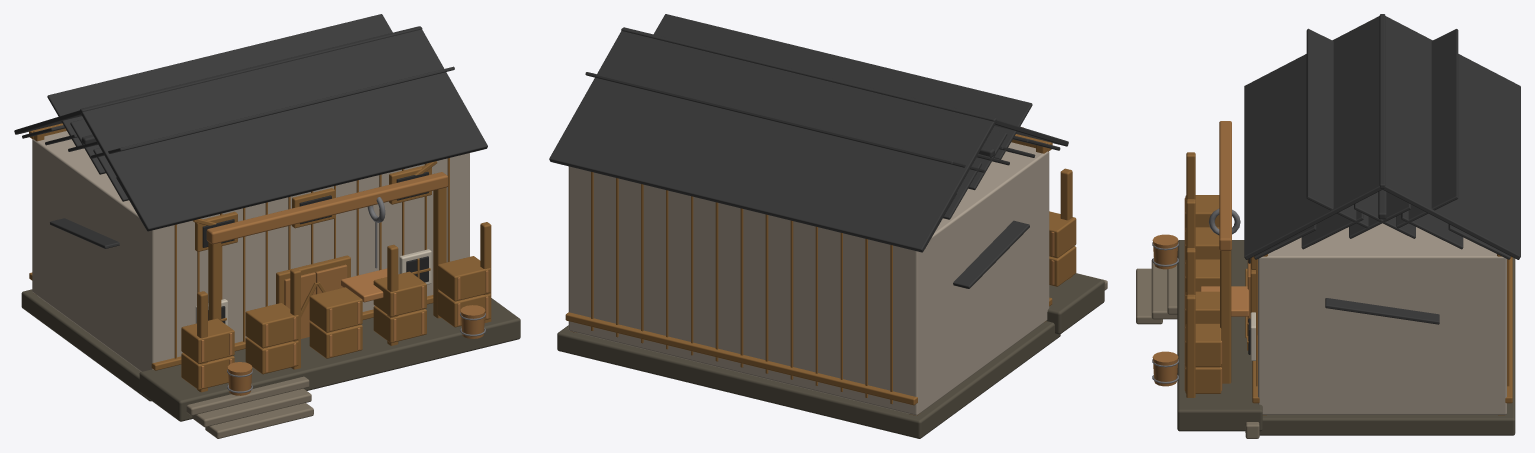
File: export-warehouse.glb
3 views of the same model, side by side, from view 1: azimuth 30°, elevation 25°; view 2: azimuth 150°, elevation 25°; view 3: azimuth 270°, elevation 25° (orthographic). The views are drawn at different scales.
Visible parts, largest first — view 1: export-warehouse-farm-roof-slate, export-warehouse-farm-plaster, export-warehouse-farm-wood-dark, export-warehouse-farm-stone-dark, export-warehouse-farm-wood, export-warehouse-farm-stone, export-warehouse-farm-wood-light, export-warehouse-farm-window, export-warehouse-farm-metal, export-warehouse-farm-trim; view 2: export-warehouse-farm-plaster, export-warehouse-farm-roof-slate, export-warehouse-farm-stone-dark, export-warehouse-farm-wood-dark; view 3: export-warehouse-farm-roof-slate, export-warehouse-farm-plaster, export-warehouse-farm-stone-dark, export-warehouse-farm-wood-dark, export-warehouse-farm-wood, export-warehouse-farm-stone, export-warehouse-farm-wood-light, export-warehouse-farm-metal.
Boxes of the visible parts, bbox=[...] form: export-warehouse-farm-roof-slate: bbox=[14, 14, 487, 248]; export-warehouse-farm-plaster: bbox=[32, 131, 469, 371]; export-warehouse-farm-wood-dark: bbox=[29, 123, 491, 392]; export-warehouse-farm-stone-dark: bbox=[21, 289, 520, 421]; export-warehouse-farm-wood: bbox=[206, 172, 485, 395]; export-warehouse-farm-stone: bbox=[186, 376, 313, 438]; export-warehouse-farm-wood-light: bbox=[201, 268, 488, 388]; export-warehouse-farm-window: bbox=[202, 171, 428, 323]; export-warehouse-farm-metal: bbox=[227, 197, 485, 393]; export-warehouse-farm-trim: bbox=[195, 249, 431, 325]; export-warehouse-farm-plaster: bbox=[568, 142, 1049, 415]; export-warehouse-farm-roof-slate: bbox=[549, 14, 1068, 288]; export-warehouse-farm-stone-dark: bbox=[557, 273, 1104, 438]; export-warehouse-farm-wood-dark: bbox=[565, 134, 1076, 415]; export-warehouse-farm-roof-slate: bbox=[1244, 14, 1520, 324]; export-warehouse-farm-plaster: bbox=[1258, 223, 1506, 414]; export-warehouse-farm-stone-dark: bbox=[1177, 240, 1515, 435]; export-warehouse-farm-wood-dark: bbox=[1185, 152, 1512, 415]; export-warehouse-farm-wood: bbox=[1152, 121, 1250, 386]; export-warehouse-farm-stone: bbox=[1136, 259, 1259, 438]; export-warehouse-farm-wood-light: bbox=[1184, 198, 1248, 390]; export-warehouse-farm-metal: bbox=[1152, 208, 1240, 383].
Size of the model in its own units: 9.06 by 6.08 by 8.34.
